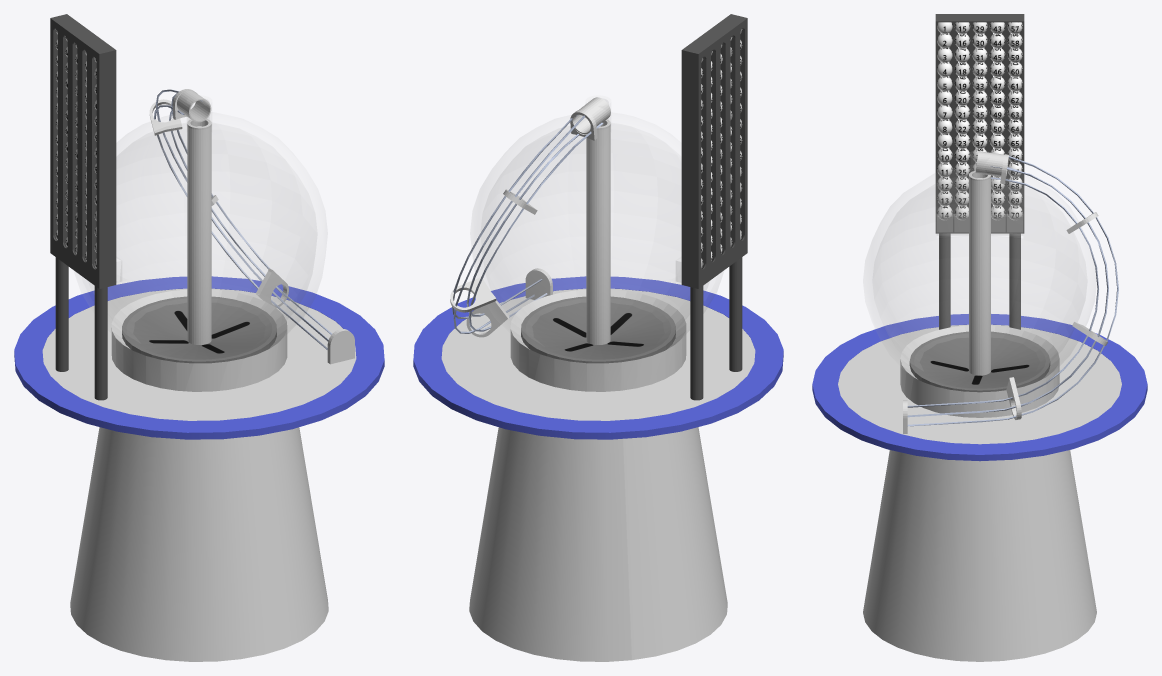
The model's file is luckyball.glb.
3 views of the same model, side by side, from view 1: azimuth 30°, elevation 25°; view 2: azimuth 150°, elevation 25°; view 3: azimuth 270°, elevation 25° (orthographic). The views are drawn at different scales.
Visible parts, largest first — view 1: Base, BallCaseV2, pool, Cylinder.001, BallMixer2, BottomSupport, BallDrawStick, poolSupport, BallOutletGuide, BallOutletGuideHolderLast, BallOutletGuideConnector, BallOutletGuideHolder4; view 2: Base, BallCaseV2, pool, Cylinder.001, BallMixer2, BottomSupport, BallDrawStick, poolSupport, BallOutletGuide, BallOutletGuideConnector, BallOutletGuideHolder3, BallOutletGuideHolderLast (+1 smaller); view 3: Base, BallCaseV2, Cylinder.001, pool, BallMixer2, BottomSupport, BallDrawStick, BallOutletGuide, poolSupport, poolOutletCover, BallOutletGuideConnector.
Part boxes in pixels (x1,y1,x2,y2): Base: (42,288,356,661); BallCaseV2: (88,122,317,346); pool: (50,14,116,288); Cylinder.001: (14,276,384,439); BallMixer2: (122,296,276,363); BottomSupport: (111,289,287,391); BallDrawStick: (187,119,211,344); poolSupport: (55,257,107,400); BallOutletGuide: (154,89,331,349); BallOutletGuideHolderLast: (327,329,354,364); BallOutletGuideConnector: (177,90,211,122); BallOutletGuideHolder4: (255,268,288,307); Base: (441,288,755,661); BallCaseV2: (480,122,709,346); pool: (681,14,747,288); Cylinder.001: (413,276,783,439); BallMixer2: (521,296,675,363); BottomSupport: (510,289,686,391); BallDrawStick: (586,119,610,344); poolSupport: (690,257,742,400); BallOutletGuide: (452,115,603,333); BallOutletGuideConnector: (572,97,610,134); BallOutletGuideHolder3: (450,277,496,312); BallOutletGuideHolderLast: (525,268,552,299); Base: (838,324,1121,661); BallCaseV2: (872,174,1087,371); Cylinder.001: (812,314,1147,461); pool: (935,14,1024,233); BallMixer2: (909,331,1050,392); BottomSupport: (900,325,1059,417); BallDrawStick: (969,170,990,375); BallOutletGuide: (907,156,1118,426); poolSupport: (939,233,1020,329); poolOutletCover: (937,214,1022,234); BallOutletGuideConnector: (975,151,1008,176).
Size of what is drawn, in the model's own units: 2.86 by 5.12 by 2.86.
Materials: 78 (71 with a texture image).
